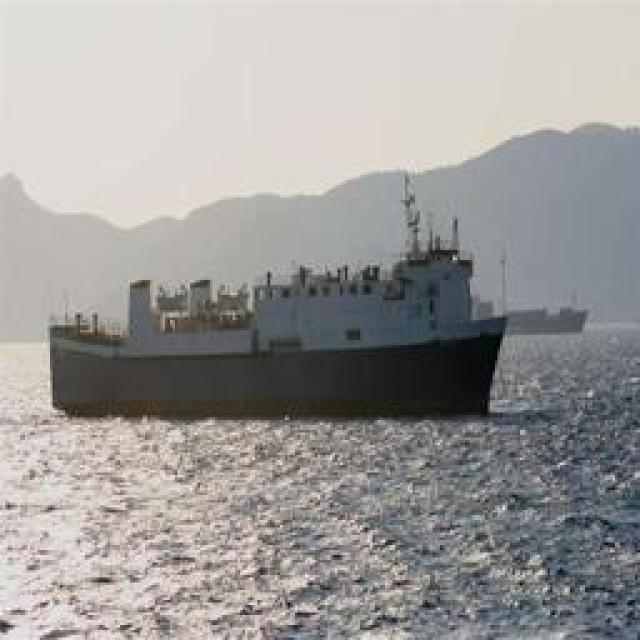CIV_Ship: (48, 176, 522, 412)
